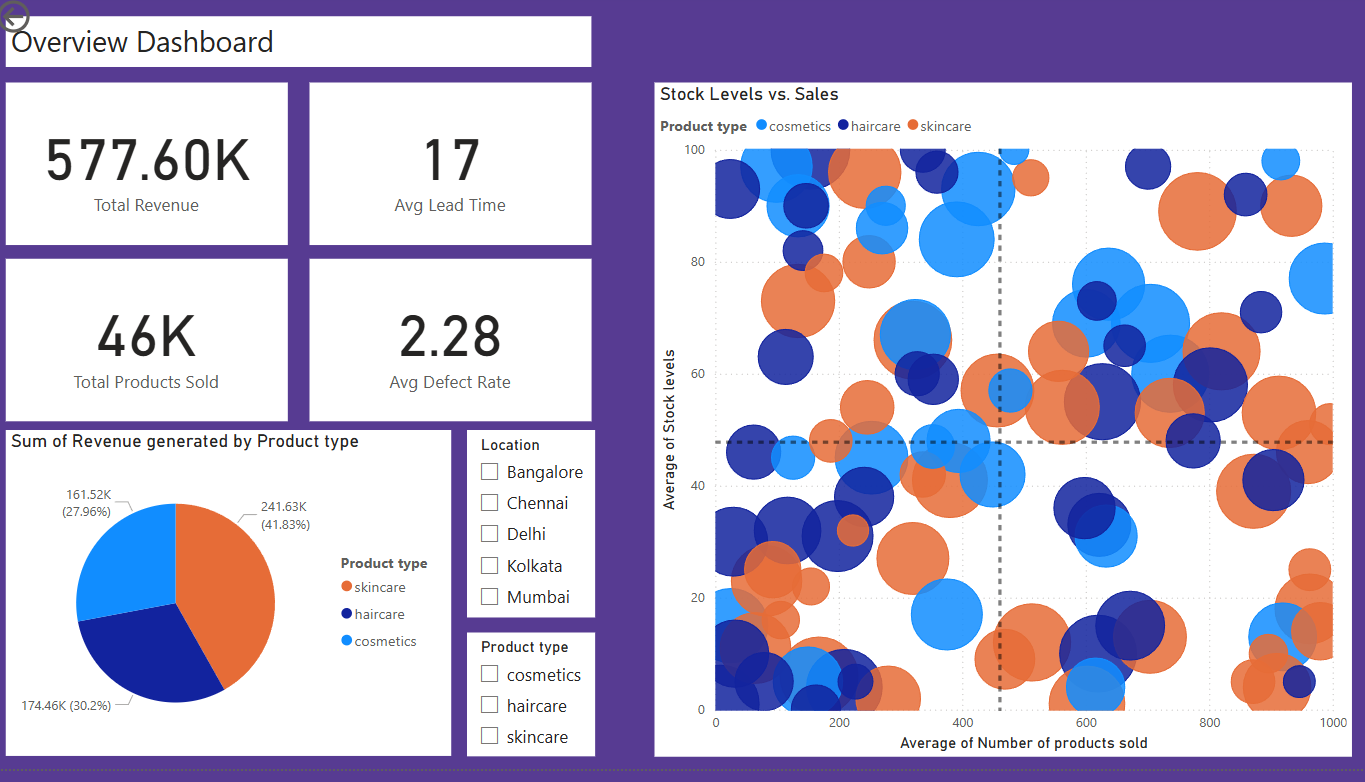

This screenshot's page, from the dashboard's own definition file:
{"tool":"powerbi","page":{"name":"OverView Dashboard","canvas":[1280,720],"ordinal":0},"visuals":[{"type":"textbox","box":[12.4,19.2,545,47.5],"z":0},{"type":"card","fields":{"Values":["supply_chain_data.Total Revenue"]},"box":[12.3,81,262.1,150.9],"z":1000},{"type":"card","fields":{"Values":["supply_chain_data.Avg Lead Time"]},"box":[295,81,262.1,150.9],"z":2000},{"type":"card","fields":{"Values":["supply_chain_data.Avg Defect Rate"]},"box":[295,245.6,262.1,150.9],"z":3000},{"type":"card","fields":{"Values":["supply_chain_data.Total Products Sold"]},"box":[12.3,245.6,262.1,150.9],"z":4000},{"type":"pieChart","fields":{"Category":["supply_chain_data.Product type"],"Y":["Sum(supply_chain_data.Revenue generated)"]},"box":[12.3,404.8,414.4,303.3],"z":5000},{"type":"actionButton","box":[0,0,100,40],"z":6000},{"type":"slicer","fields":{"Values":["supply_chain_data.Product type"]},"box":[441.9,592.8,119.4,115.3],"z":7000},{"type":"slicer","fields":{"Values":["supply_chain_data.Location"]},"box":[441.9,404.8,119.4,174.3],"z":8000},{"type":"scatterChart","title":"Stock Levels vs. Sales","fields":{"X":["Avg(supply_chain_data.Number of products sold)"],"Y":["Avg(supply_chain_data.Stock levels)"],"Category":["supply_chain_data.SKU"],"Size":["Sum(supply_chain_data.Revenue generated)"],"Series":["supply_chain_data.Product type"]},"box":[616.1,81,649.1,627.1],"z":9000}]}

Visuals, with their boxes in screenshot pixels (x1, y1, x2, y2), scaled from the page's 1280x720 canvas onto the 1365x782 screenshot:
textbox: <bbox>13, 21, 594, 72</bbox>
card - supply_chain_data.Total Revenue: <bbox>13, 88, 293, 252</bbox>
card - supply_chain_data.Avg Lead Time: <bbox>315, 88, 594, 252</bbox>
card - supply_chain_data.Avg Defect Rate: <bbox>315, 267, 594, 431</bbox>
card - supply_chain_data.Total Products Sold: <bbox>13, 267, 293, 431</bbox>
pieChart - supply_chain_data.Product type x Sum(supply_chain_data.Revenue generated): <bbox>13, 440, 455, 769</bbox>
actionButton: <bbox>0, 0, 107, 43</bbox>
slicer - supply_chain_data.Product type: <bbox>471, 644, 599, 769</bbox>
slicer - supply_chain_data.Location: <bbox>471, 440, 599, 629</bbox>
"Stock Levels vs. Sales" scatterChart: <bbox>657, 88, 1349, 769</bbox>
